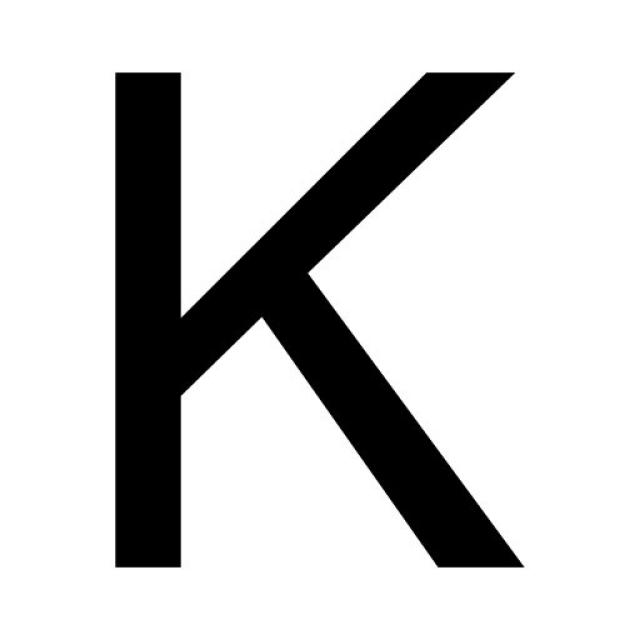K: (74, 42, 547, 627)
